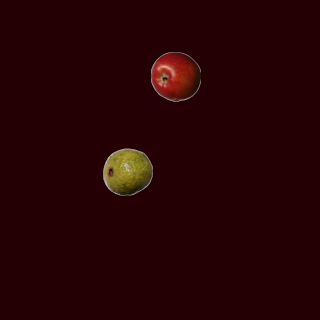Apple Braeburn: (150, 51, 200, 101)
Guava: (102, 146, 152, 196)
